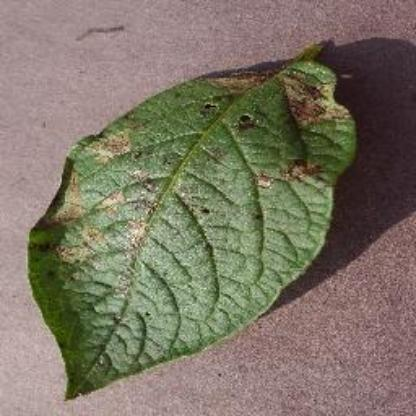Late-Blight: (17, 25, 406, 406)
